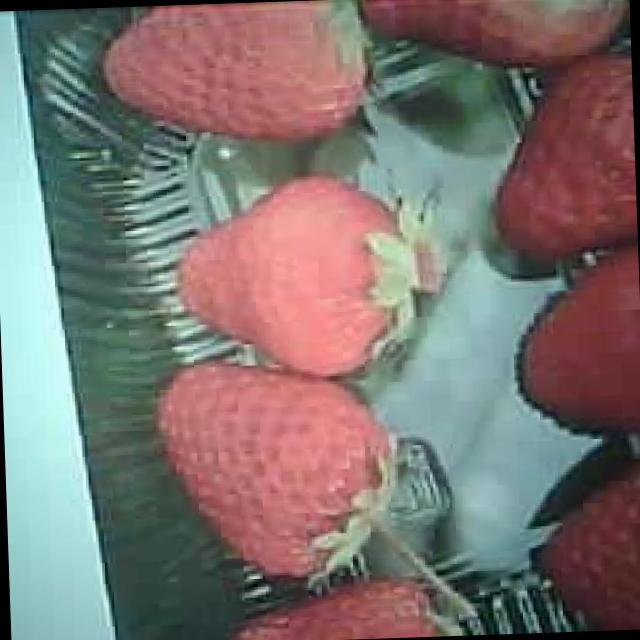Strawberry: (156, 358, 394, 588), (178, 176, 416, 382), (105, 0, 366, 148), (487, 51, 638, 255), (511, 250, 640, 439), (362, 0, 631, 75), (538, 458, 640, 628), (228, 576, 441, 640)
